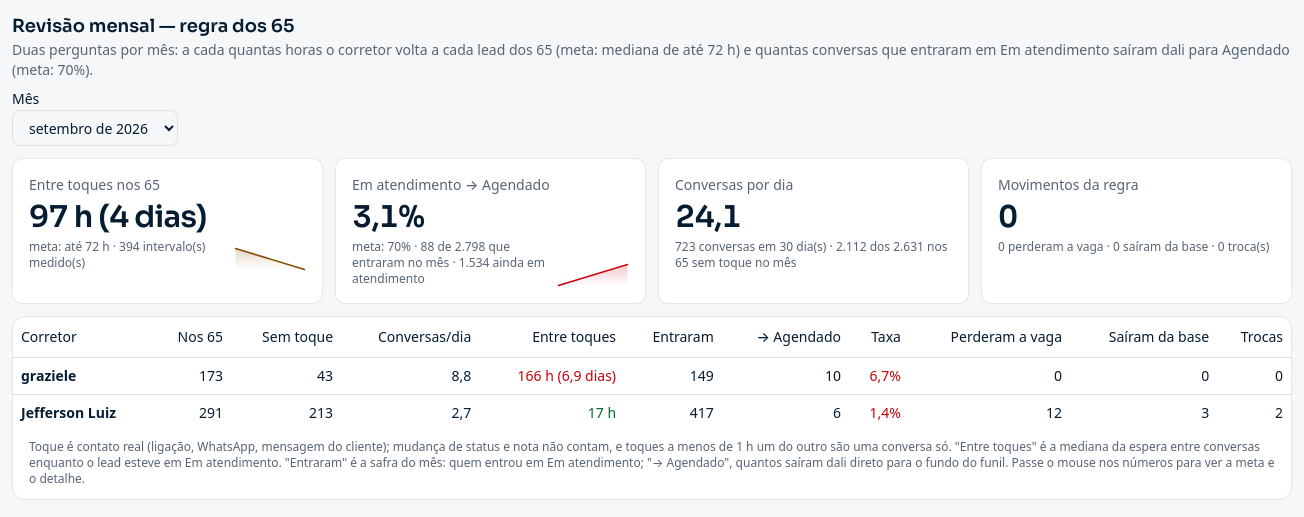
Scenario: Fatia 4: o cartão da revisão mensal › trocar o mês troca a casa e a tabela
Select "agosto de 2026" in the dropdown with test id "regra-65-revisao-mes" at (95, 128), box [12,110,178,146]
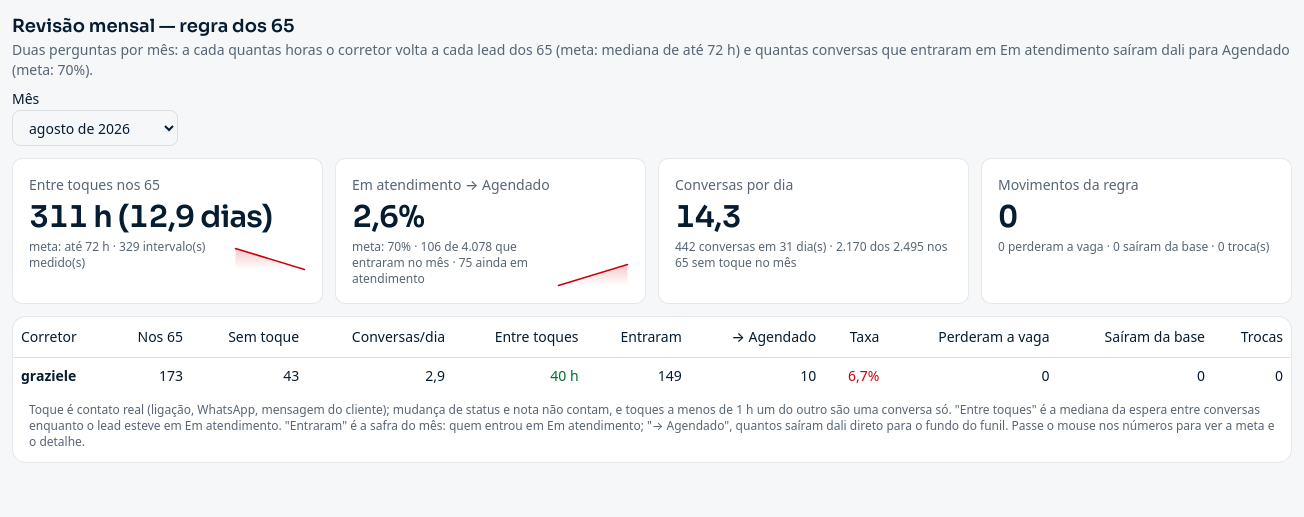
Result: the text "meta: até 72 h · 329 intervalo(s) medido(s)" is shown at [29,239,226,271]
Result: the number of rows with test id "regra-65-revisao-linha" is 1 at [13,357,1291,394]
Result: the text "40 h" is shown at [453,357,586,394]
